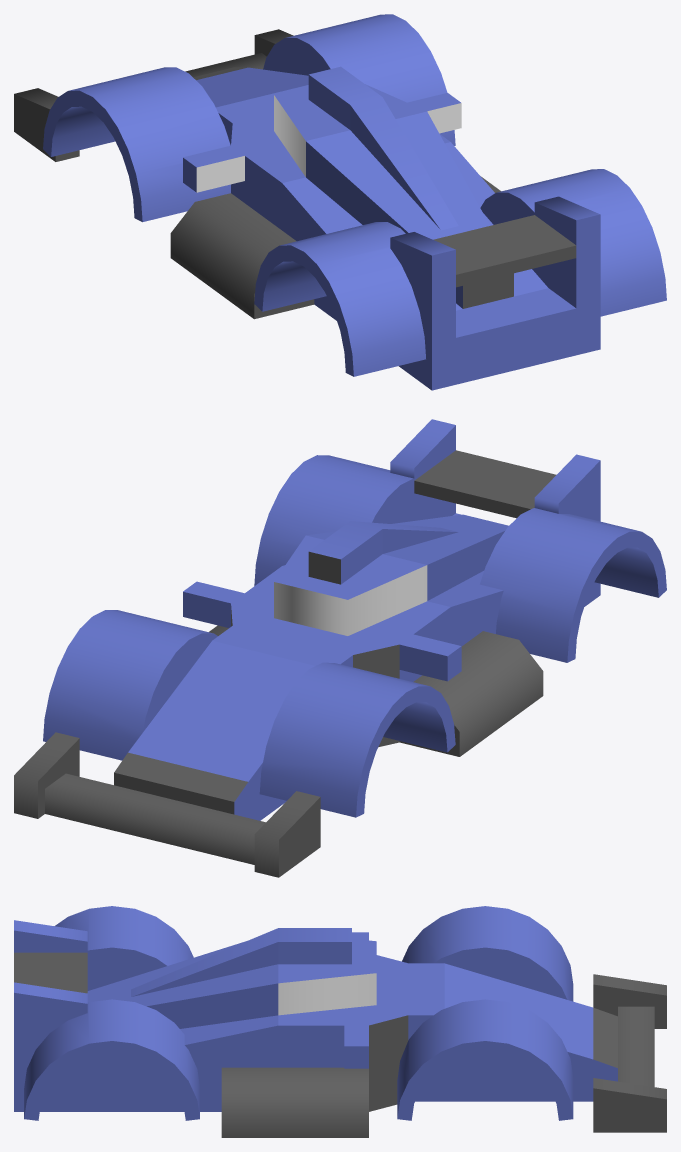
Rendered from raceFuture-body.glb.
3 renders of one model, top to bottom at view 1: azimuth 30°, elevation 25°; view 2: azimuth 150°, elevation 25°; view 3: azimuth 270°, elevation 25°, orthographic. The views are drawn at different scales.
Visible parts, largest first — view 1: body; view 2: body; view 3: body.
Boxes of the visible parts, x1,y1,x2,y2 form: body: (14,14,666,390); body: (14,419,666,877); body: (14,906,666,1137).
Size of the model in its own units: 1.3 by 0.6325 by 2.66.
